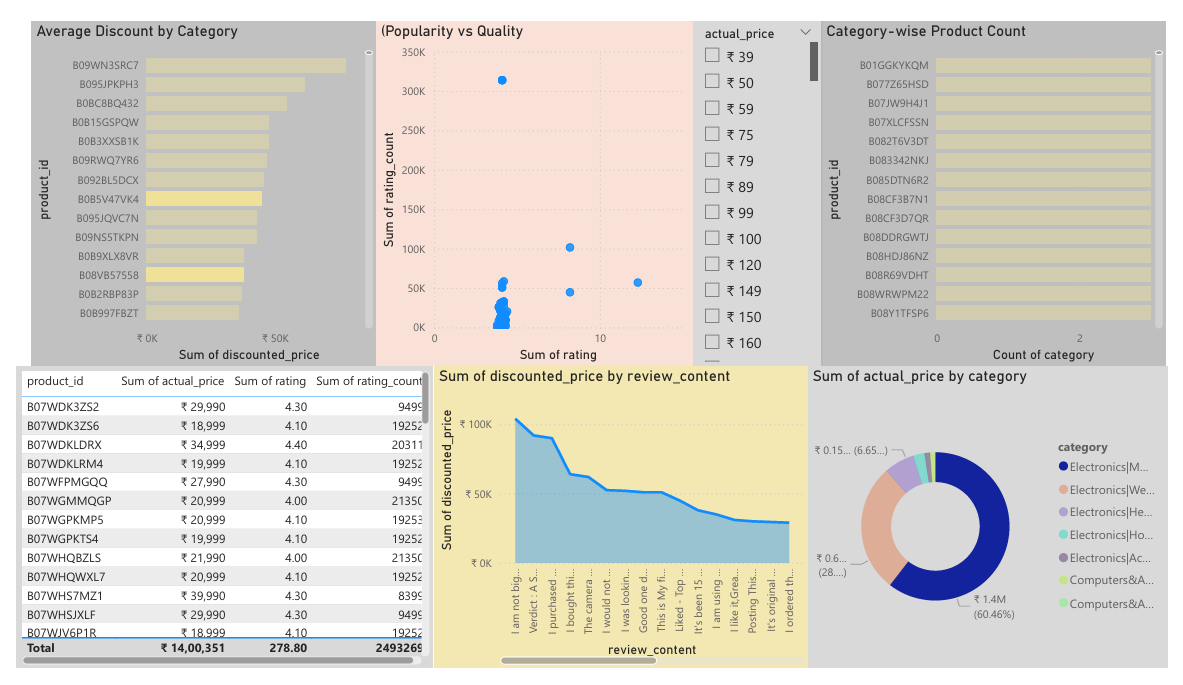

Layout of this report page (visuals, bound fields, positions):
{"tool":"powerbi","page":{"name":"Page 1","canvas":[1280,720],"ordinal":0},"visuals":[{"type":"clusteredBarChart","title":"Average Discount by Category","fields":{"Category":["amazon.product_id"],"Y":["Sum(amazon.discounted_price)"]},"box":[16,0,384,384],"z":0},{"type":"barChart","title":"Category-wise Product Count","fields":{"Y":["CountNonNull(amazon.category)"],"Category":["amazon.product_id"]},"box":[896,0,384,384],"z":1000},{"type":"scatterChart","title":"(Popularity vs Quality","fields":{"X":["Sum(amazon.rating)"],"Y":["Sum(amazon.rating_count)"],"Category":["amazon.product_name"]},"box":[400,0,352,384],"z":2000},{"type":"tableEx","fields":{"Values":["amazon.product_id","Sum(amazon.actual_price)","Sum(amazon.rating)","Sum(amazon.rating_count)"]},"box":[0,384,464,336],"z":3000},{"type":"slicer","fields":{"Values":["amazon.actual_price"]},"box":[752,0,144,384],"z":4000},{"type":"areaChart","fields":{"Y":["Sum(amazon.discounted_price)"],"Category":["amazon.review_content"]},"box":[464,384,416,336],"z":5000},{"type":"donutChart","fields":{"Y":["Sum(amazon.actual_price)"],"Category":["amazon.category"]},"box":[880,384,400,336],"z":6000}]}

Visuals, with their boxes in screenshot pixels (x1, y1, x2, y2), scaled from the page's 1280x720 canvas onto the 1183x685 screenshot:
"Average Discount by Category" clusteredBarChart: 15,0,370,365
"Category-wise Product Count" barChart: 828,0,1182,365
"(Popularity vs Quality" scatterChart: 370,0,695,365
tableEx - amazon.product_id x Sum(amazon.actual_price): 0,365,429,684
slicer - amazon.actual_price: 695,0,828,365
areaChart - Sum(amazon.discounted_price) x amazon.review_content: 429,365,813,684
donutChart - Sum(amazon.actual_price) x amazon.category: 813,365,1182,684
